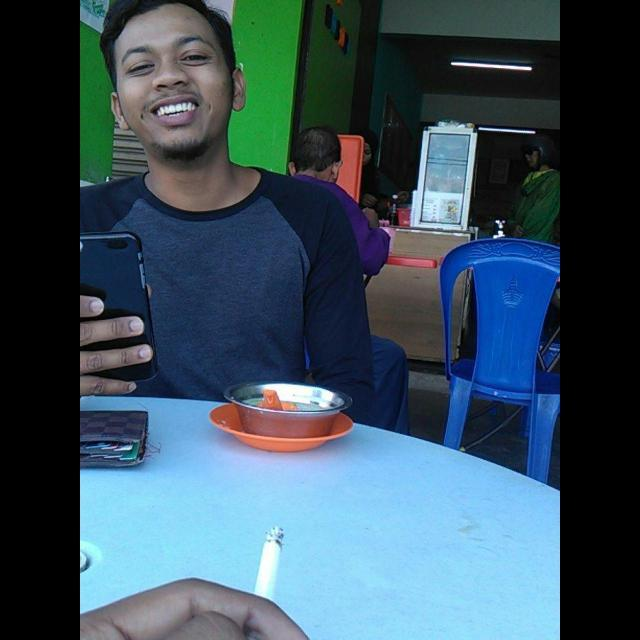rokok: (256, 522, 288, 608)
